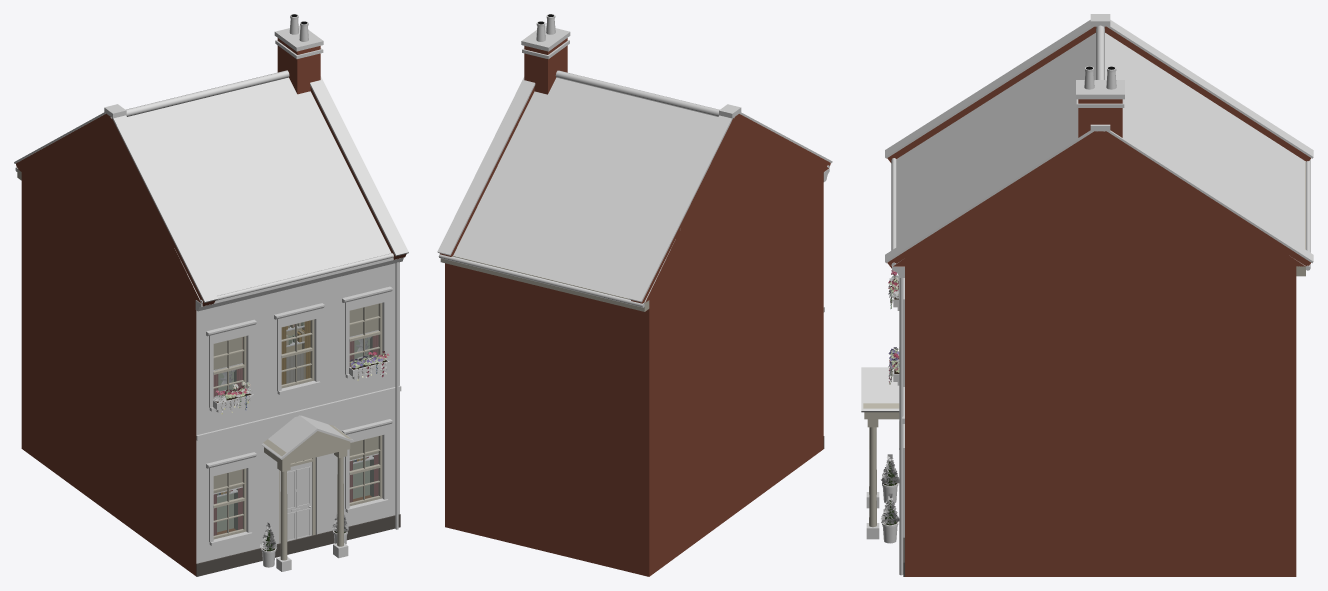
File: residential.glb
The picture shows the model from 3 angles, left to right: view 1: azimuth 30°, elevation 25°; view 2: azimuth 150°, elevation 25°; view 3: azimuth 270°, elevation 25°; orthographic projection. The views are drawn at different scales.
Visible parts, largest first — view 1: residential; view 2: residential; view 3: residential.
Part boxes in pixels (x1,y1,x2,y2): residential: (14,14,408,576); residential: (437,14,832,576); residential: (861,14,1313,576).
Size of what is drawn, in the model's own units: 5.42 by 11.31 by 9.25.
